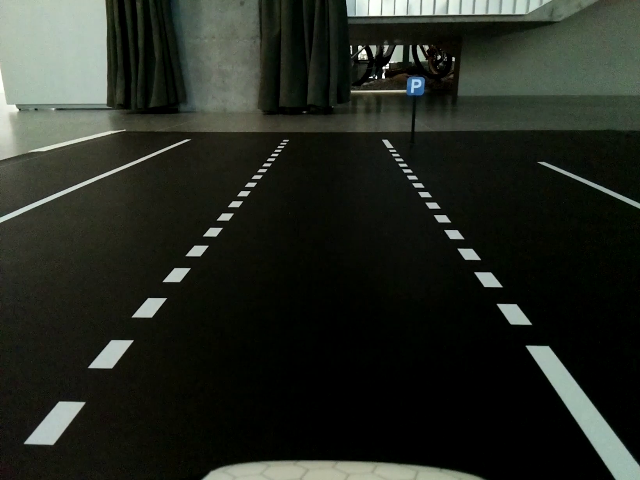park: (408, 78, 424, 94)
